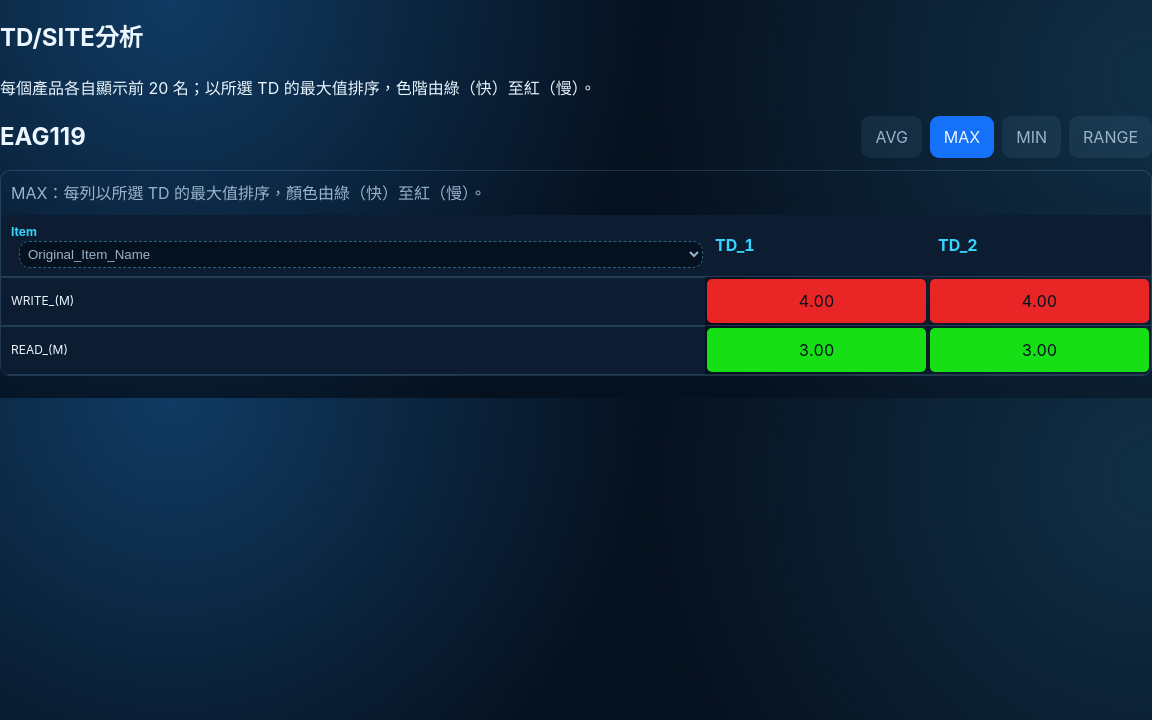
Test: TdAnalysisTab › switches the Item column between the five supported fields
The image size is (1152, 720).
Select "Mode" in the dropdown named "Item 顯示欄位" at coordinates (361, 254), box [19,241,703,268]
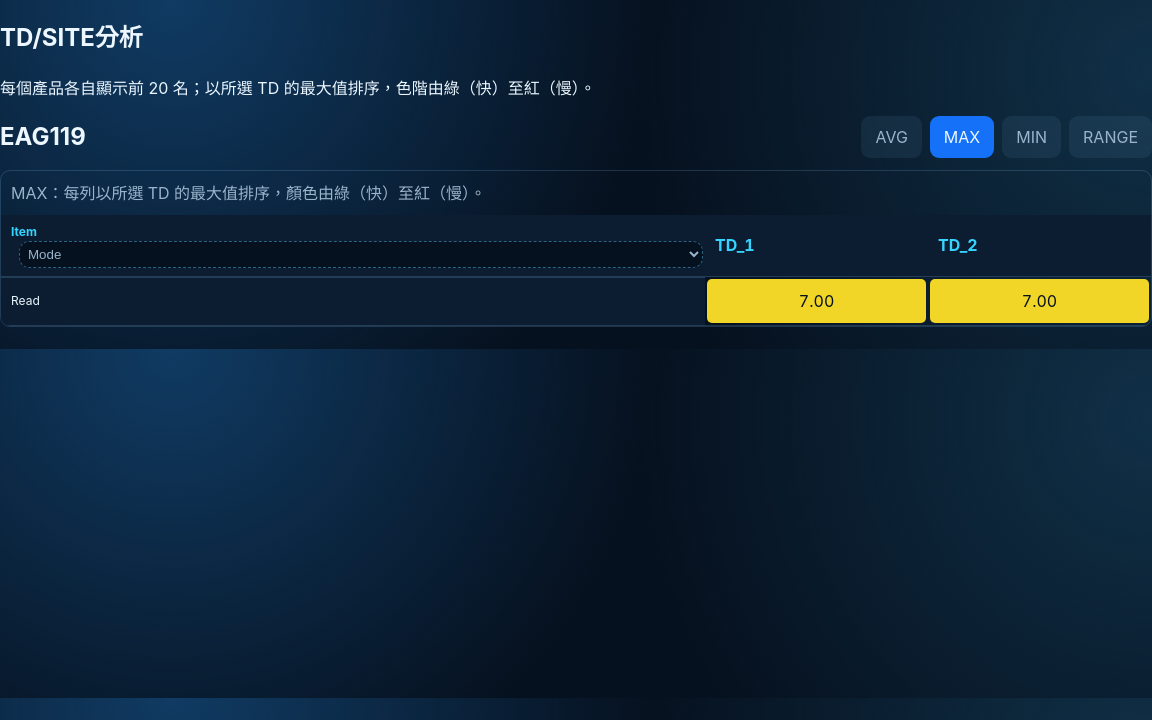
Expected: the cell "Read" is shown, [1,277,705,326]
Expected: the 1st button "7.00" is shown, [707,279,926,323]
